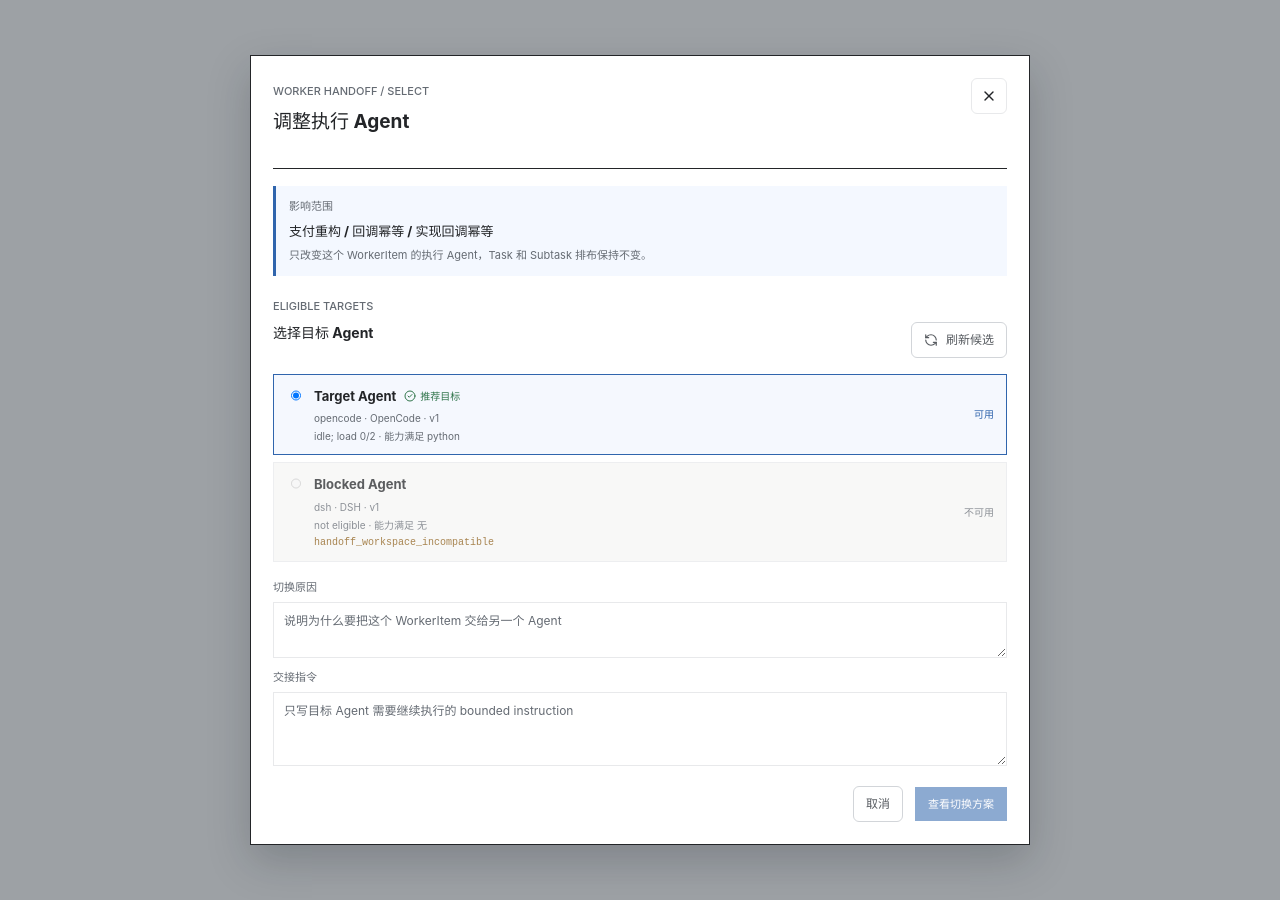
it: HandoffDialog › disables confirmation for a stale proposal
The image size is (1280, 900).
Click the radio button labelled "Target Agent" at (296, 395), box [291, 389, 301, 402]
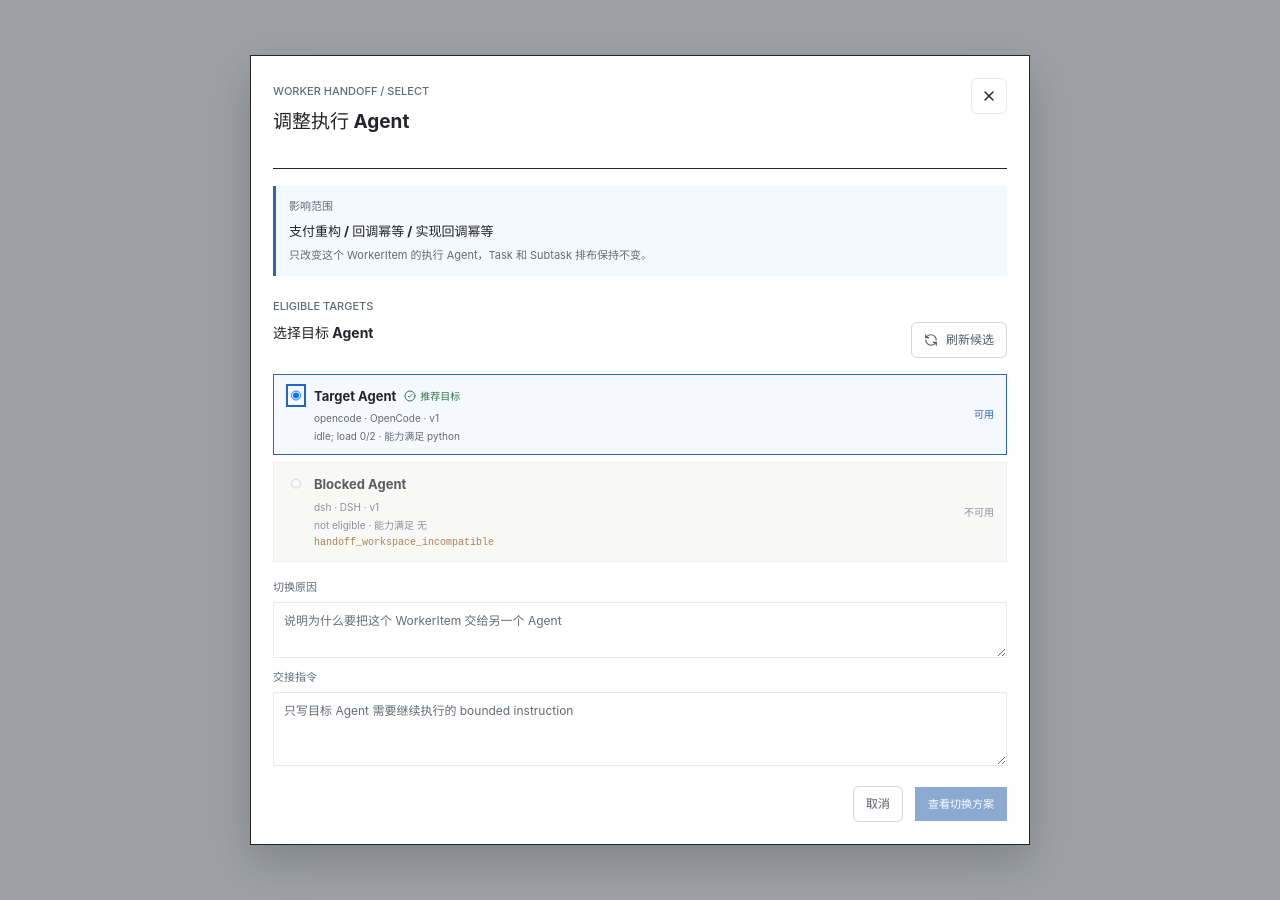
Type "重新分配" into the text box labelled "切换原因" at (640, 630), box [273, 602, 1007, 658]
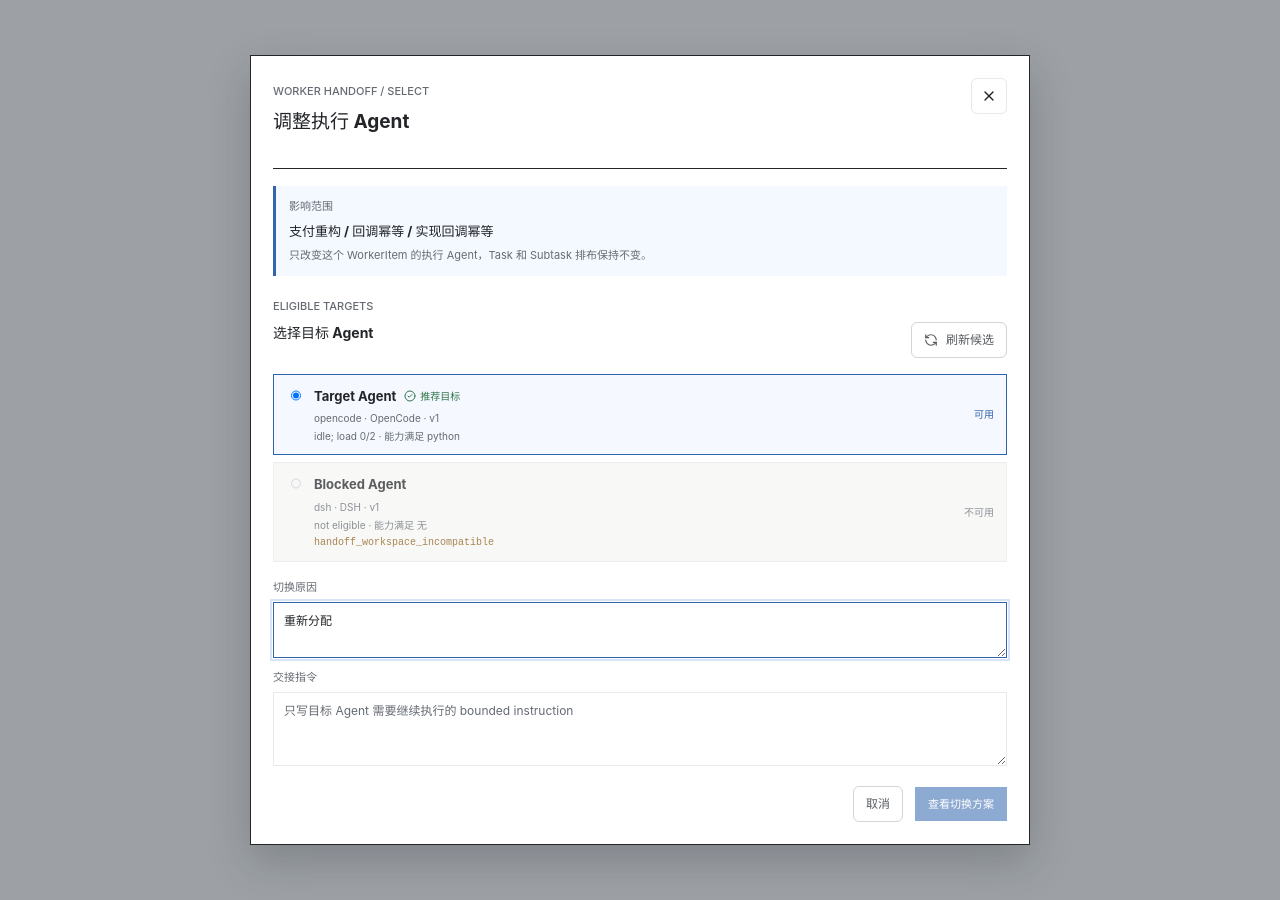
Type "保留当前上下文" into the text box labelled "交接指令" at (640, 729), box [273, 692, 1007, 766]
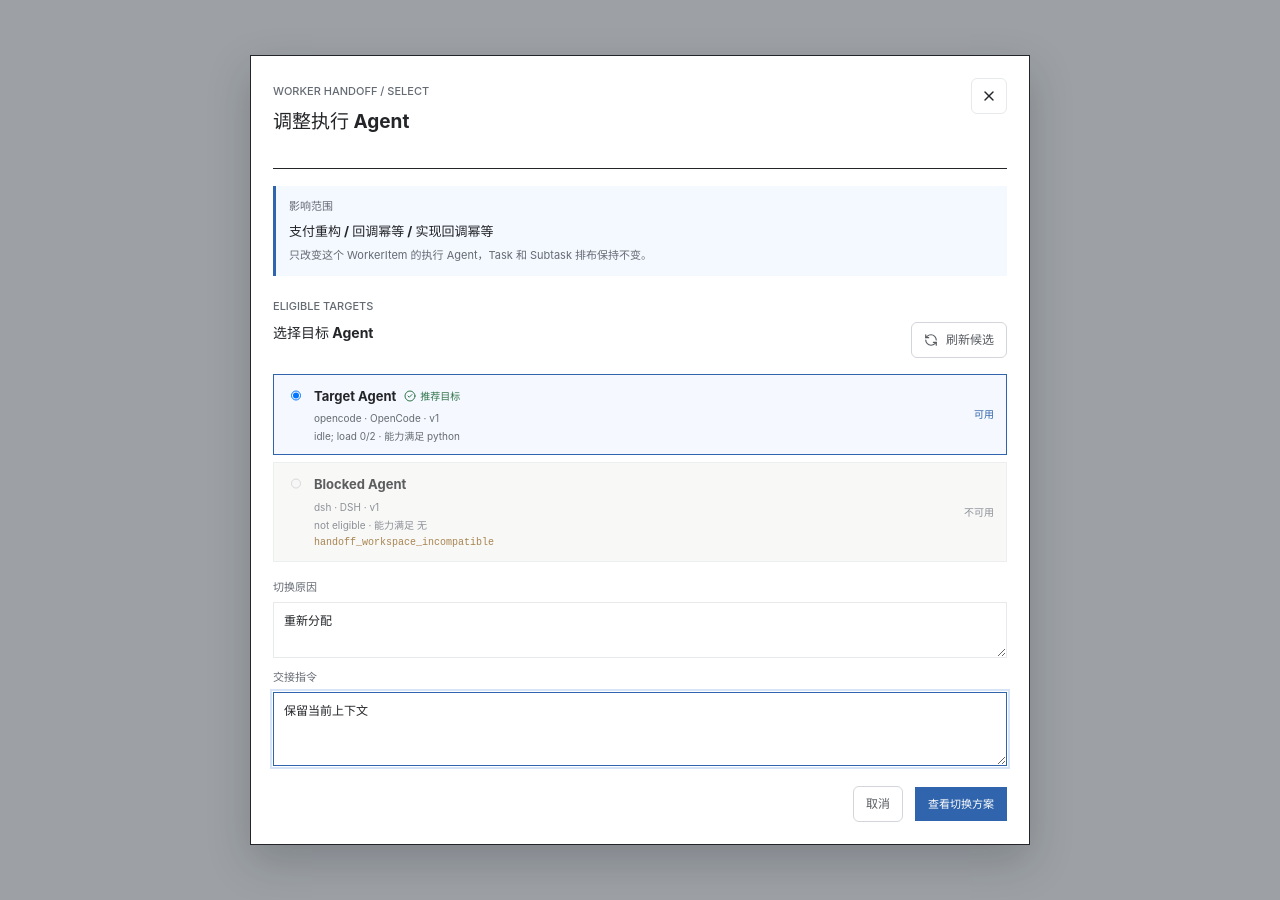
Click the button "查看切换方案" at (961, 804), box [915, 787, 1007, 821]
(page scrolled)
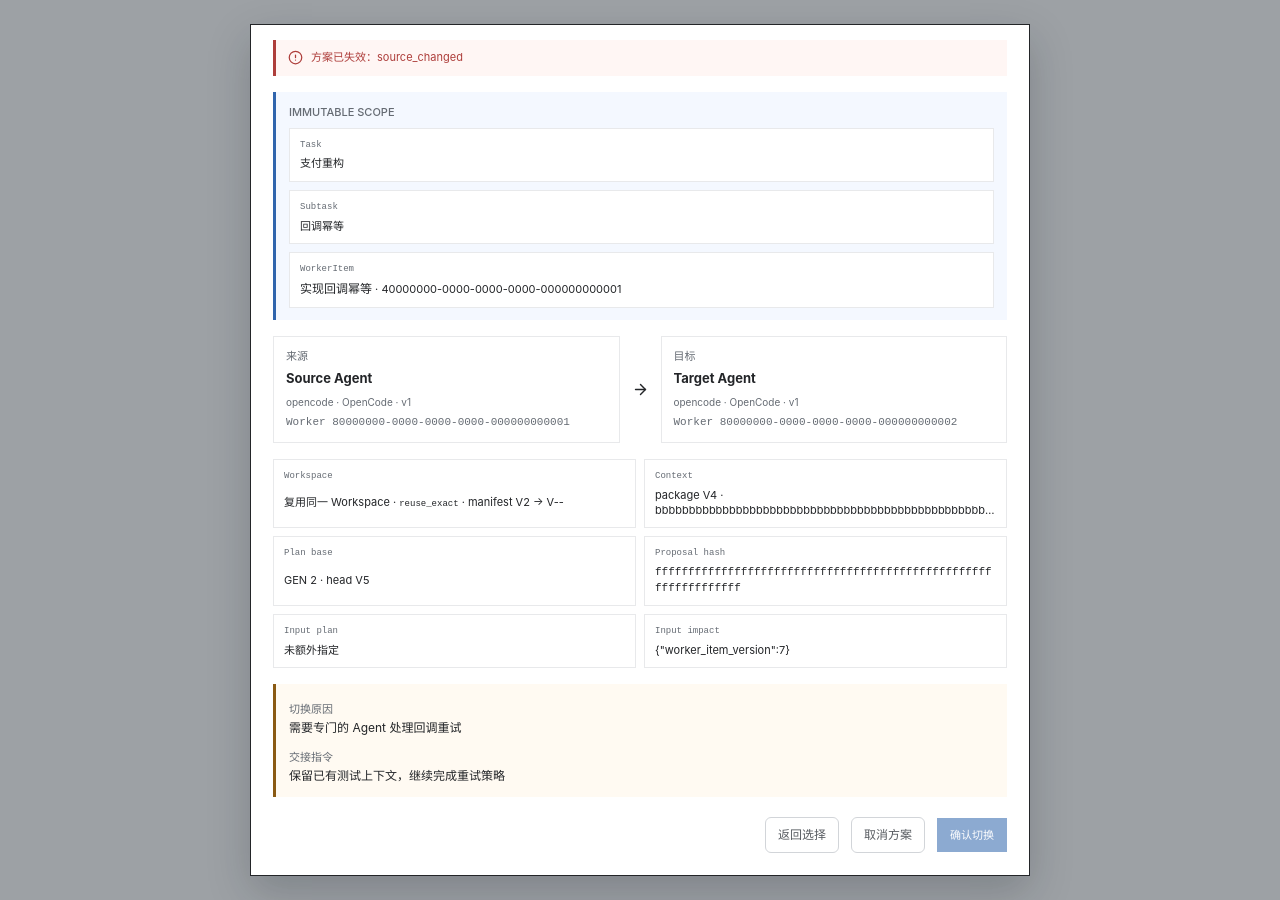
Expected: the text "方案已失效" is shown, [311, 50, 366, 64]
Expected: the button "确认切换" is disabled, [937, 818, 1007, 852]
